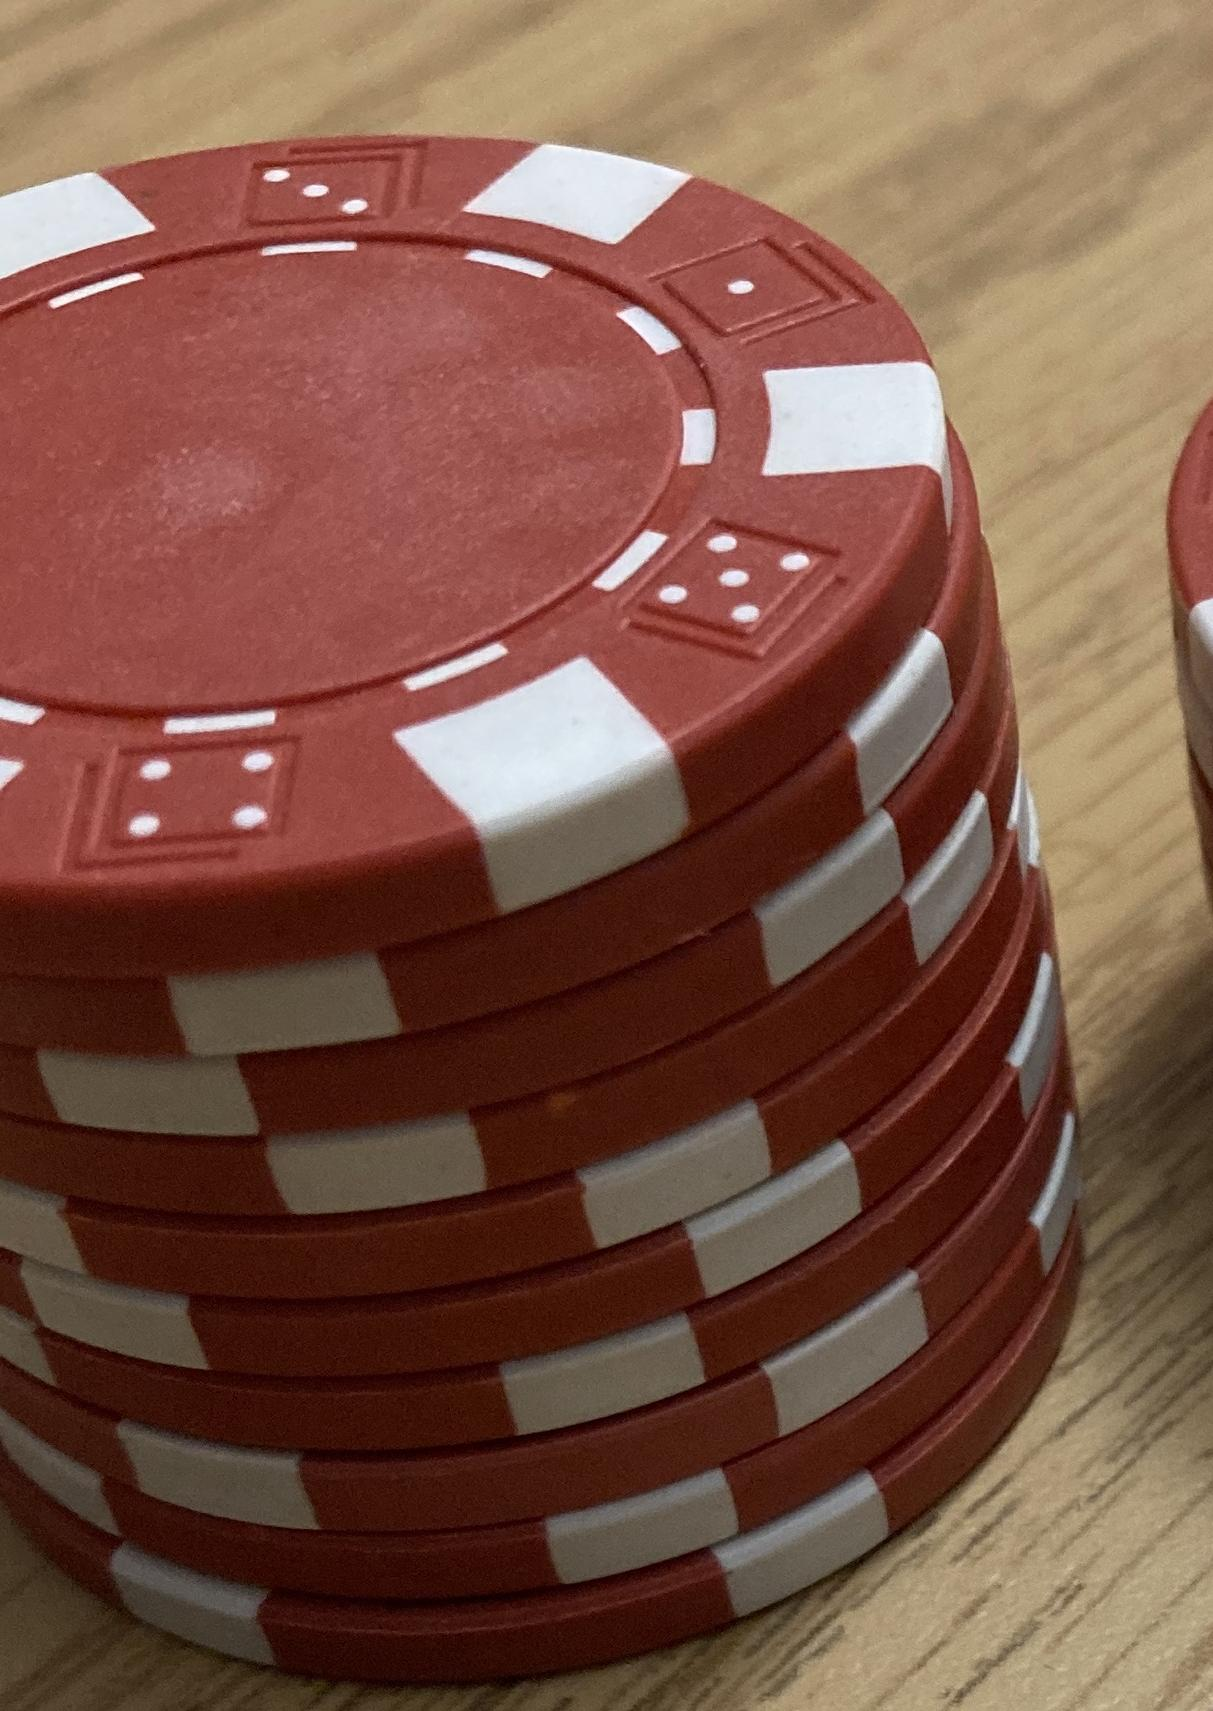Chip: (1, 1, 1213, 1711)
